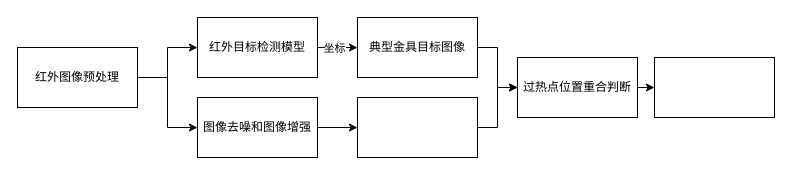
Some shapes in this 792 by 175 pixel diagram are drawn without their labels. The shapes that lost their labels are listed below. From the top down, each one's box as (x1, y1, x2, y2) in pixels, then its label:
(654, 56, 774, 118): 过热点或温升区域
(356, 96, 478, 158): 红外亮点检测模型
